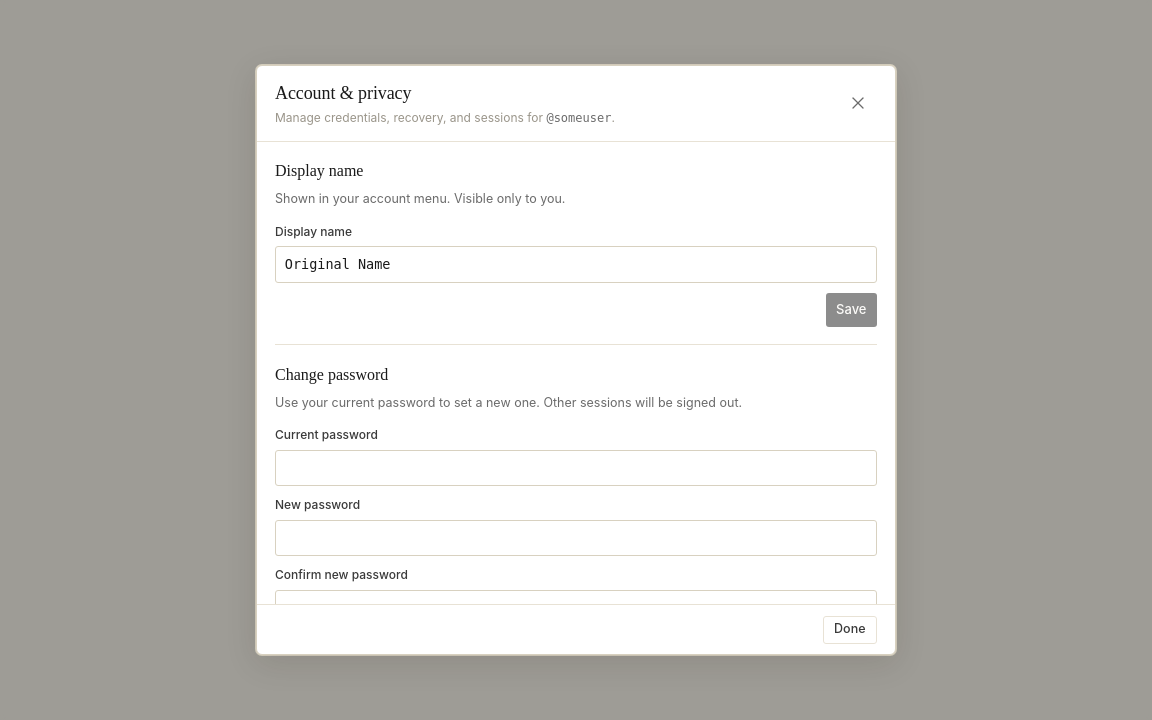
Scenario: AccountPrivacyModal — Display name section › on 400: shows inline validation error
Replace the text in the field labelled "Display name" with "X": (576, 264) [275,246,877,283]
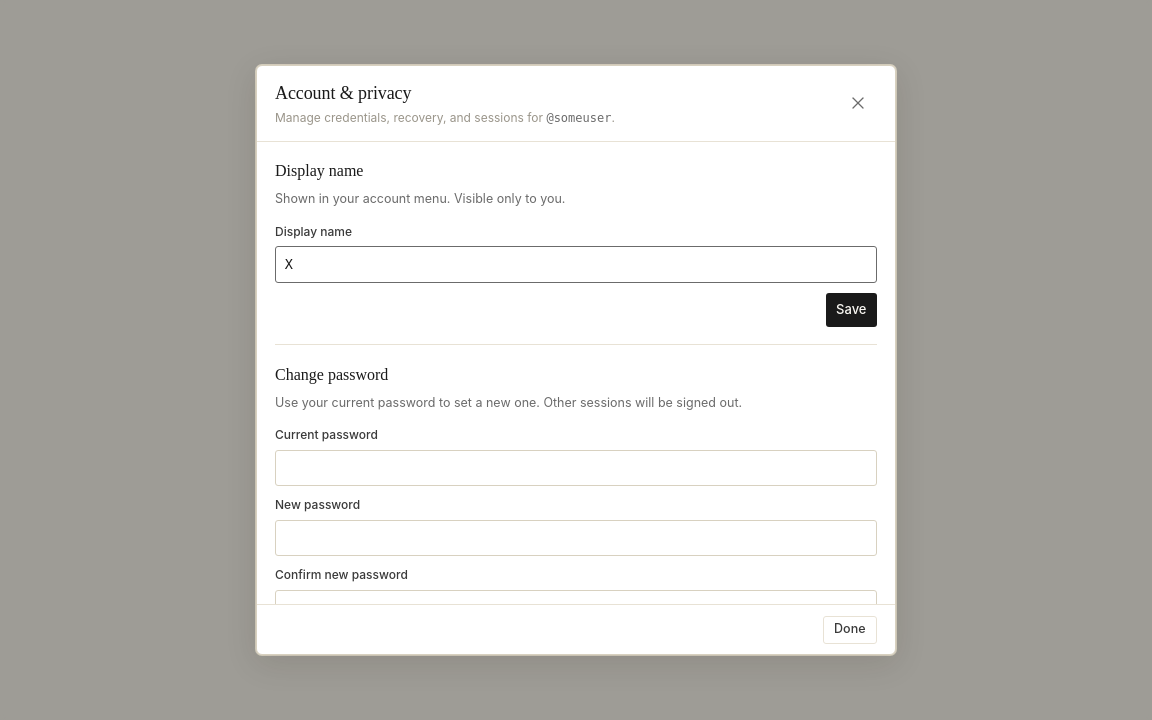
Click the button with aria-label "save display name": (851, 310) [826,293,877,326]
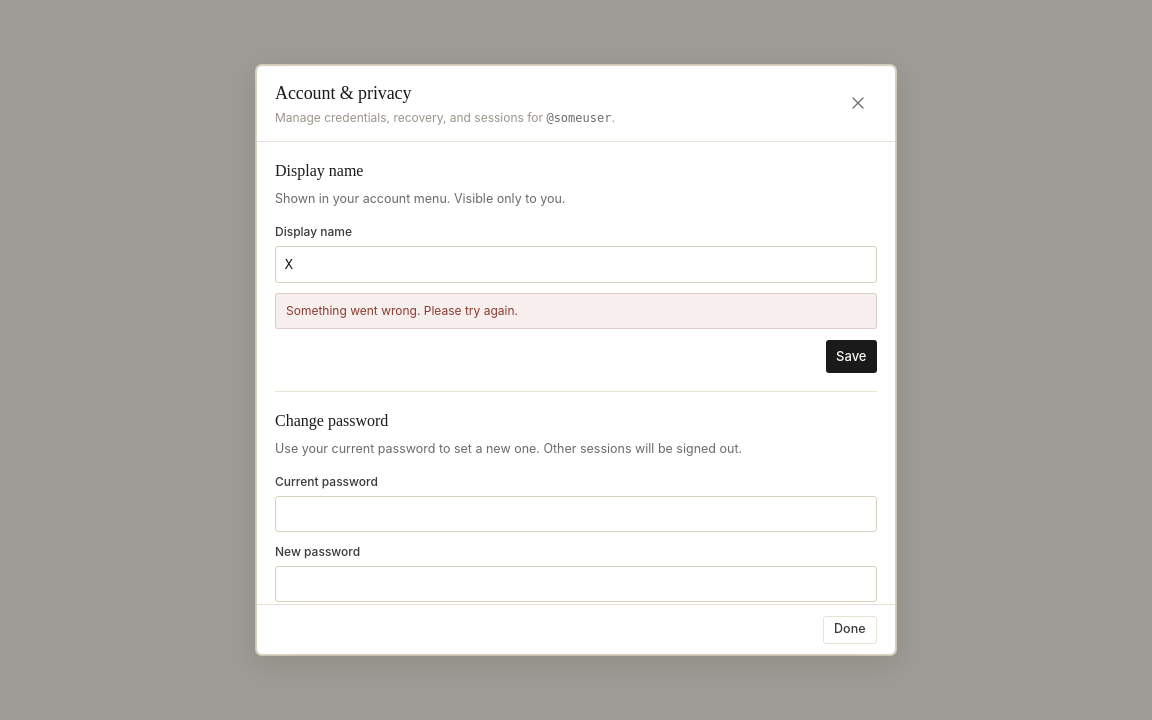
Expected: the message "Something went wrong. Please try again." is shown, [275,293,877,329]
